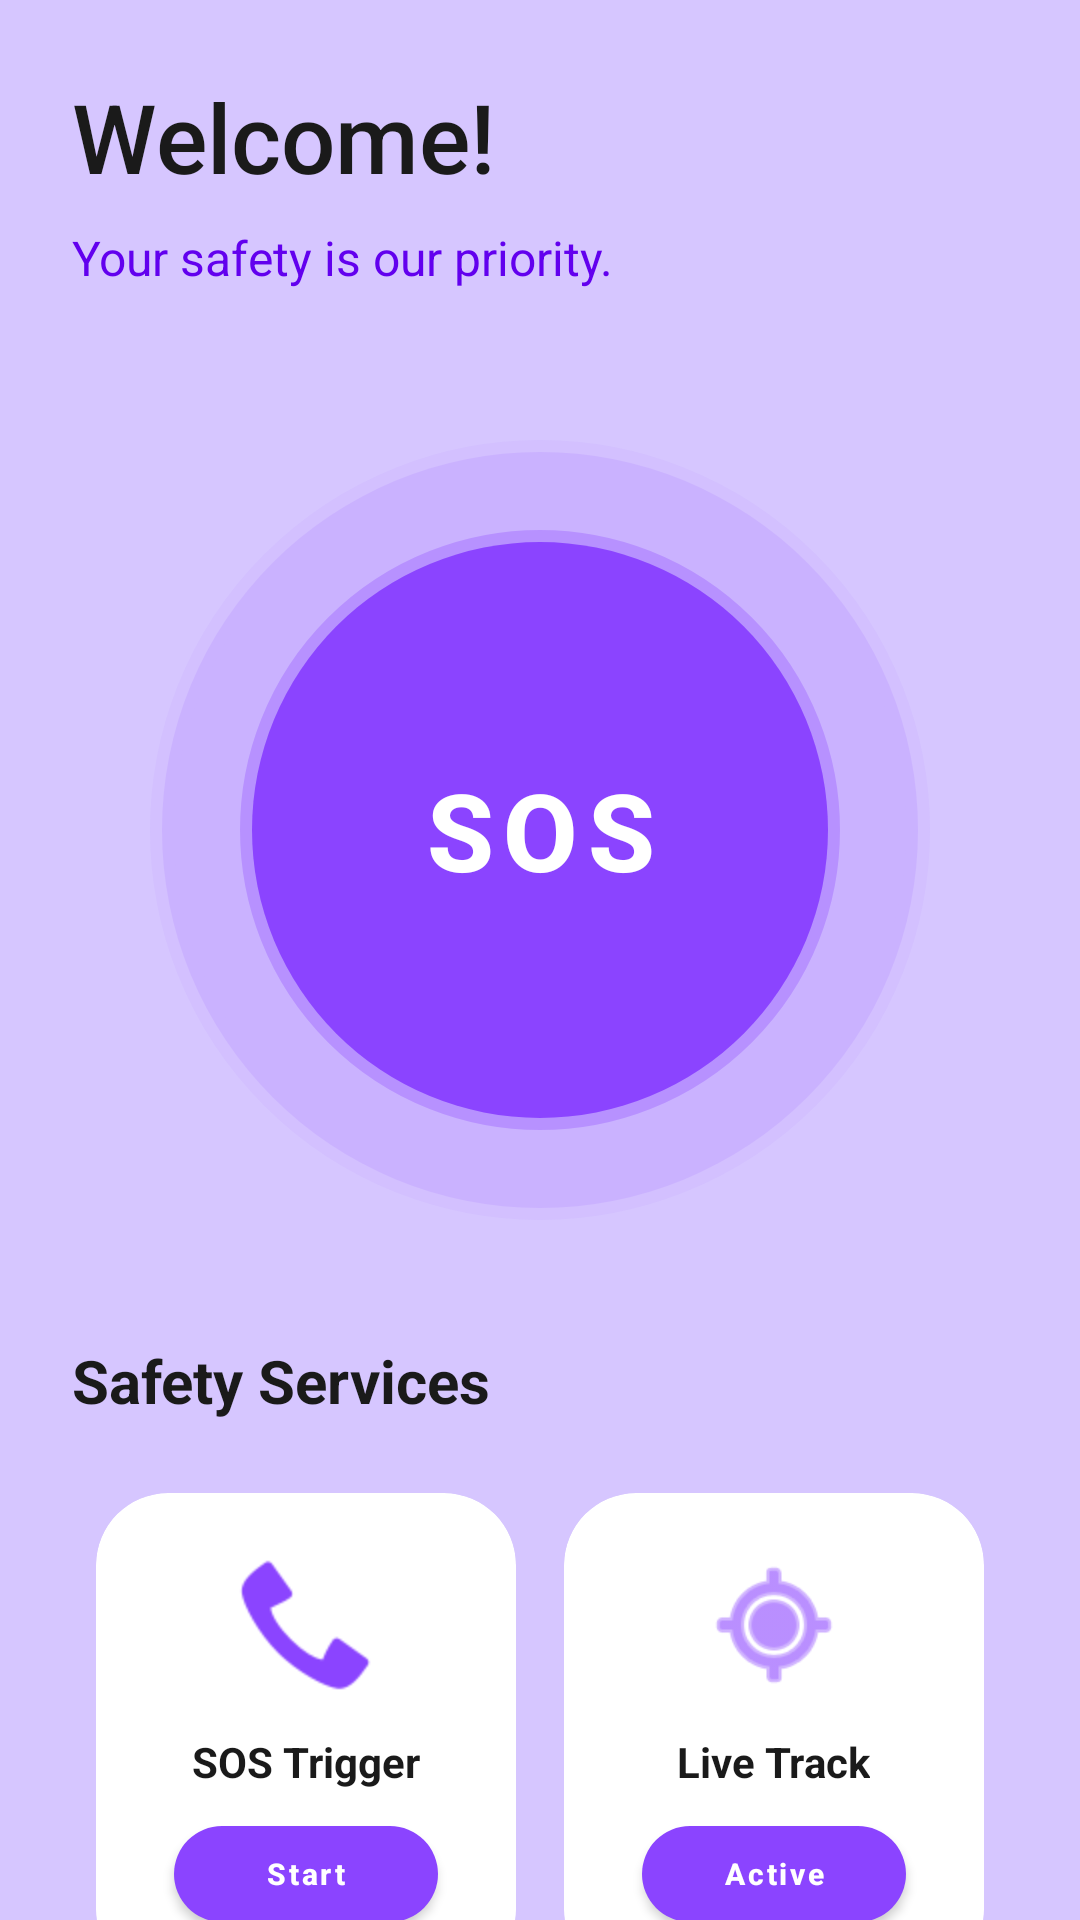

Where icons sit on this 1080*1920 app screen, as detection(x1, y1, x2, y2):
mylocation: detection(716, 1567, 832, 1683)
phone call: detection(241, 1560, 370, 1690)
